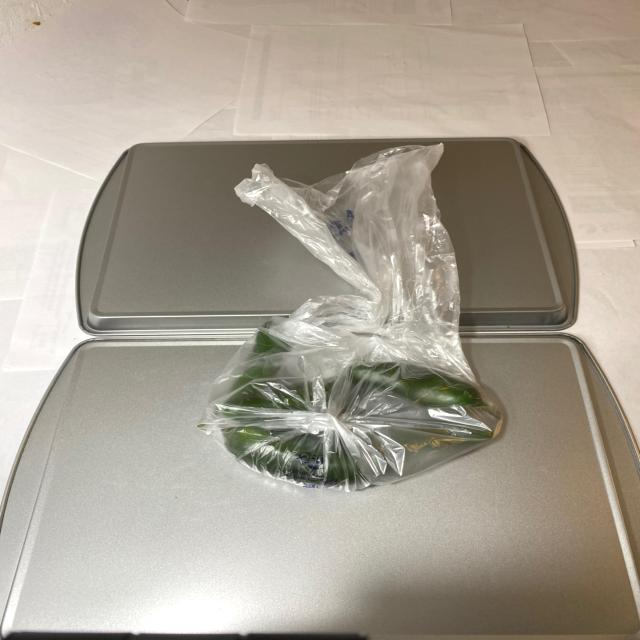chilli: (210, 320, 524, 484)
